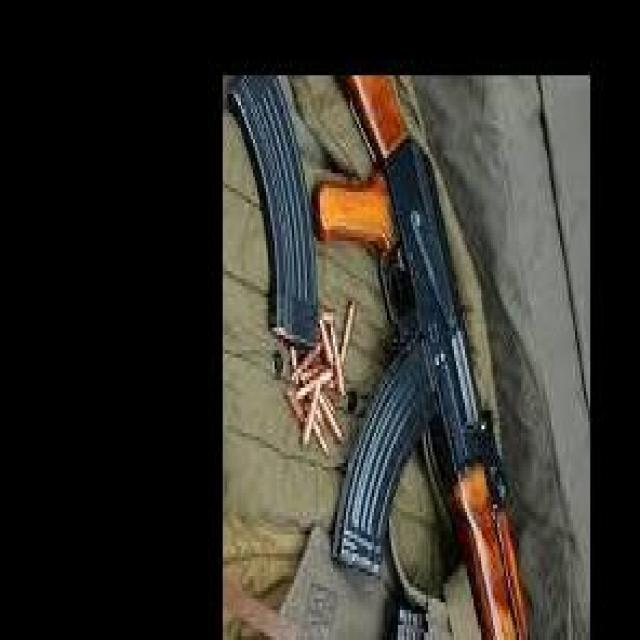weapon: (311, 75, 530, 640)
